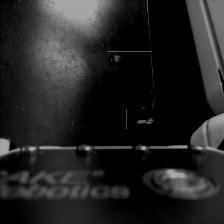Door Handle: (108, 51, 152, 90)
Lock: (129, 107, 154, 132)
